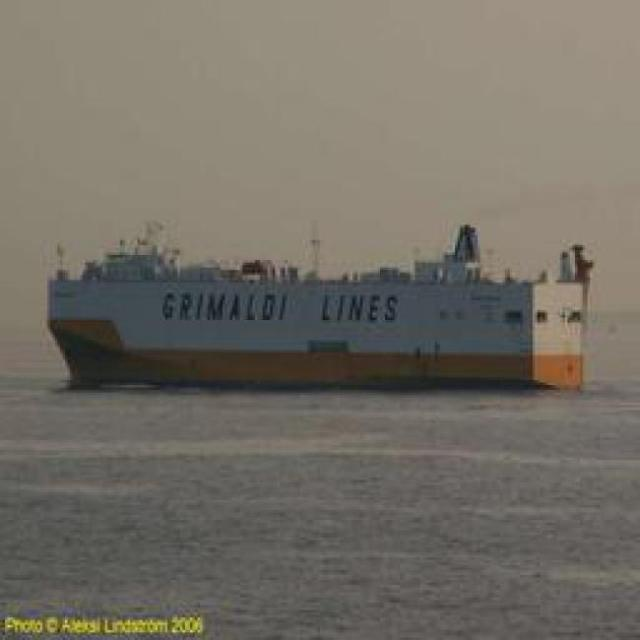boat: (48, 245, 599, 407)
